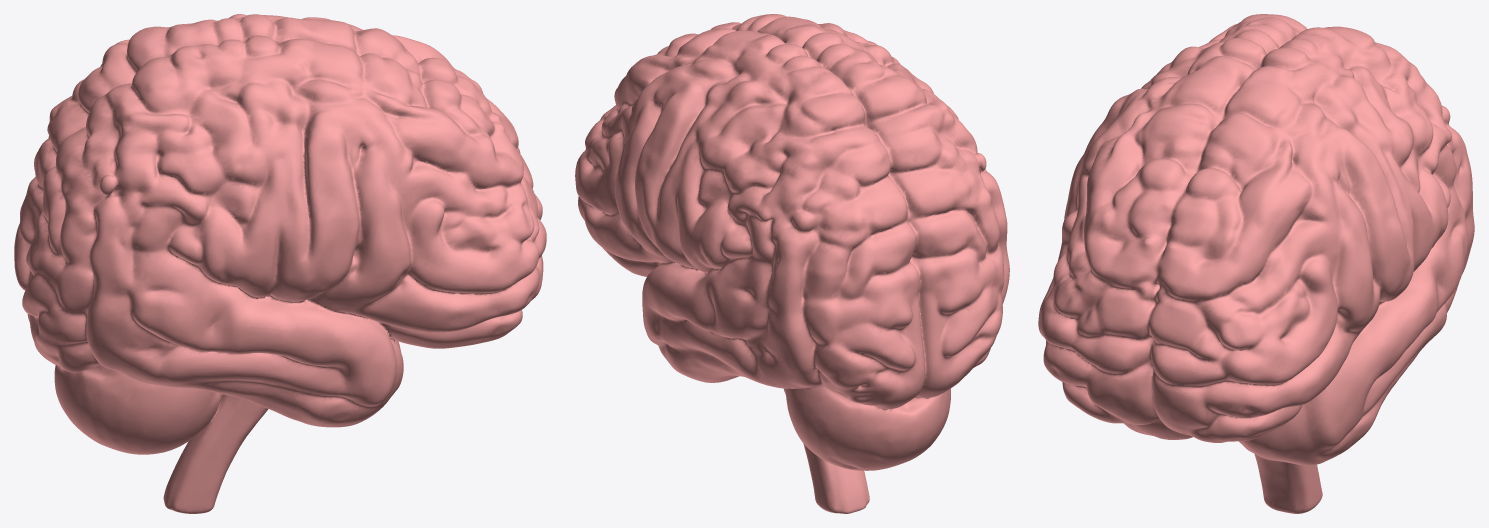
The model's file is brain.glb.
3 renders of one model, left to right at view 1: azimuth 30°, elevation 25°; view 2: azimuth 150°, elevation 25°; view 3: azimuth 270°, elevation 25°, orthographic. The views are drawn at different scales.
Parts seen in each view (by area): view 1: Object_2; view 2: Object_2; view 3: Object_2.
Boxes of the visible parts, x1,y1,x2,y2 form: Object_2: [14, 14, 546, 513]; Object_2: [575, 14, 1009, 513]; Object_2: [1038, 14, 1474, 513].
Size of the model in its own units: 5.35 by 5.25 by 4.27.
